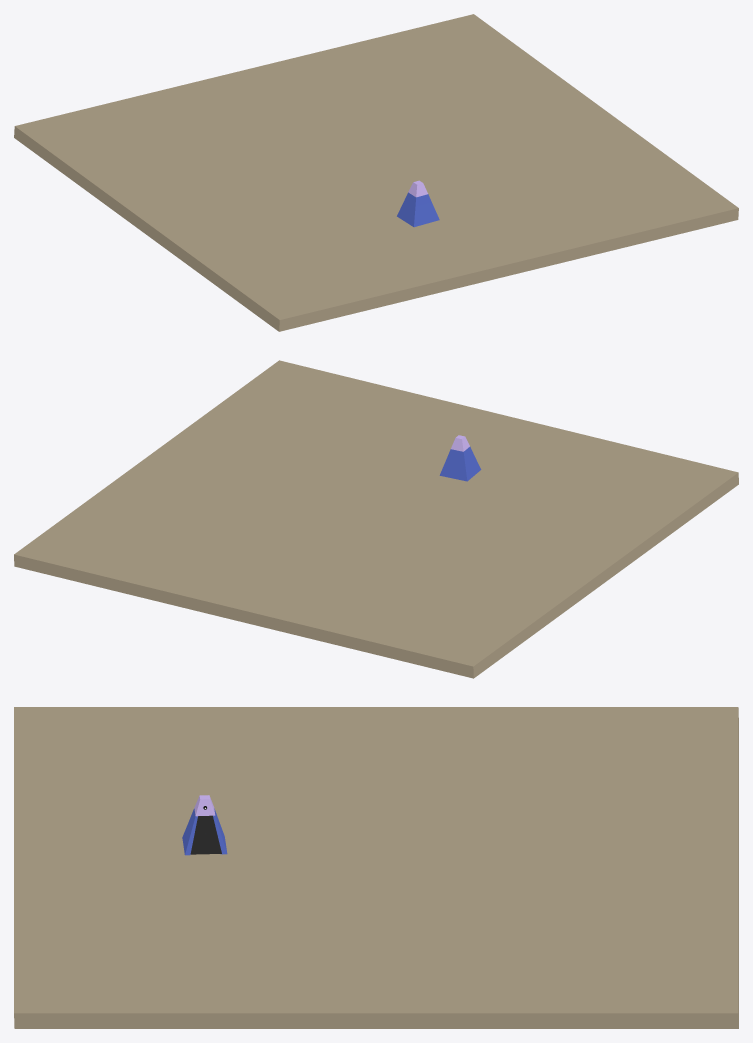
The model's file is planerobot.gltf.
3 renders of one model, top to bottom at view 1: azimuth 30°, elevation 25°; view 2: azimuth 150°, elevation 25°; view 3: azimuth 270°, elevation 25°, orthographic. The views are drawn at different scales.
Visible parts, largest first — view 1: Plane; view 2: Plane; view 3: Plane.
Part boxes in pixels (bbox=[...]): Plane: bbox=[14, 14, 738, 331]; Plane: bbox=[14, 360, 738, 678]; Plane: bbox=[14, 707, 738, 1028].
Bounding box in the file's own units: 23.36 × 2.3 × 23.35.
Materials: 1 (1 with a texture image).
